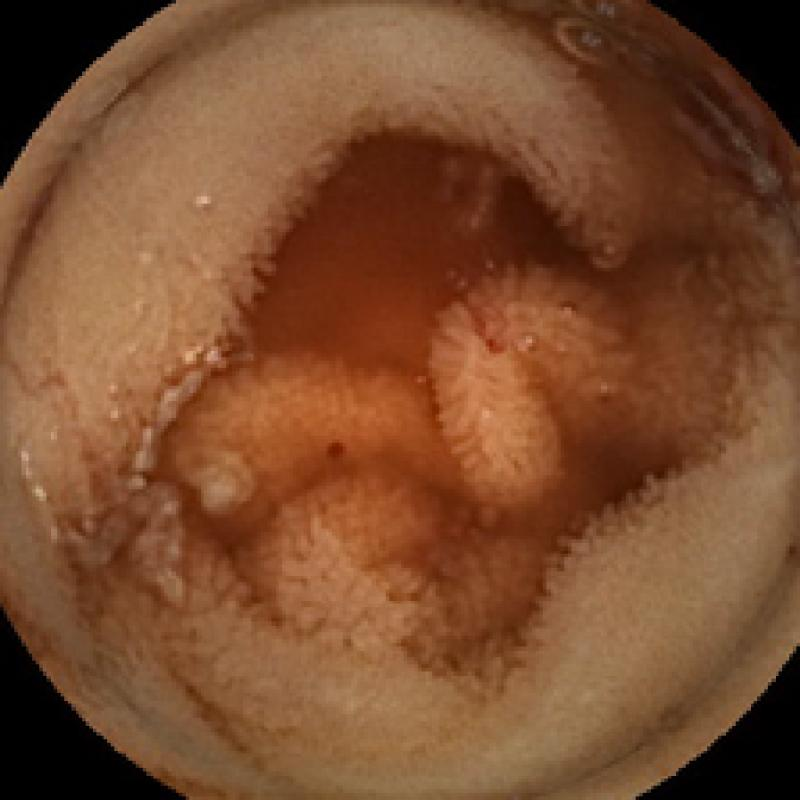bleeding: (628, 57, 800, 235), (486, 171, 570, 270), (318, 433, 348, 470)
